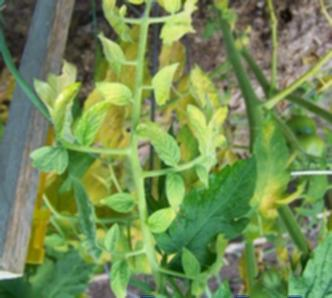Tomato leaf yellow virus: (241, 91, 292, 243), (139, 117, 191, 166), (76, 100, 117, 153), (161, 168, 191, 228), (94, 76, 134, 111)
